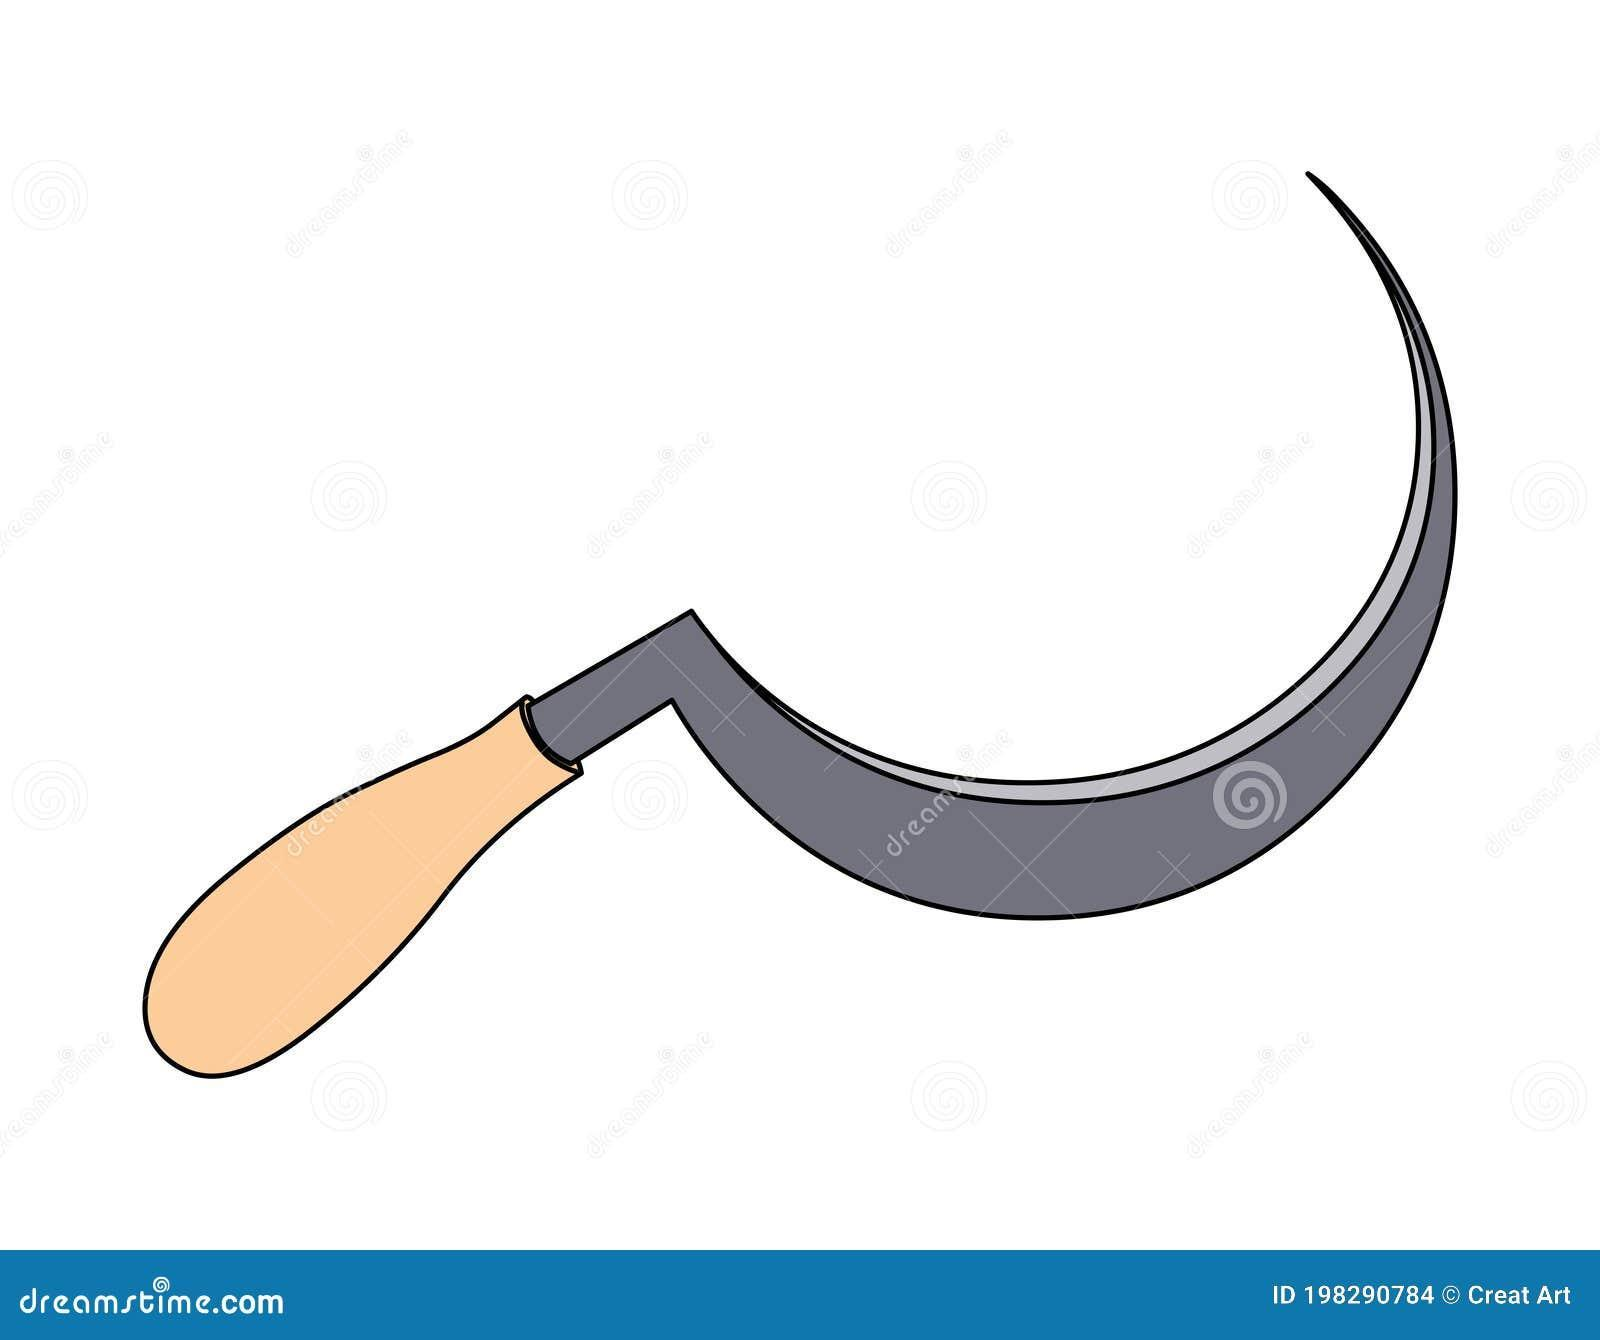foice: (144, 174, 1456, 1077)
